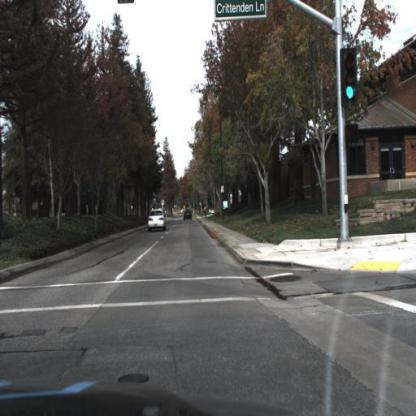biker: (204, 205, 209, 219)
car: (145, 209, 167, 235), (183, 207, 195, 223)
